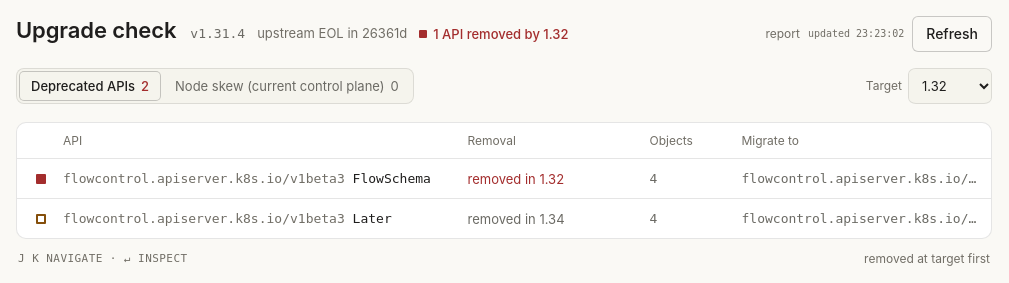
Test: UpgradeView (redesign step 5) › frames removals against the target and re-frames on change; a removal's mark is a fault, a later one look-at
The width and height of the screenshot is (1009, 283).
Expected: the text "1 API removed by 1.32" is shown, [433, 25, 568, 43]
Select "1.34" in the dropdown named "target minor": (950, 86) [908, 66, 992, 106]
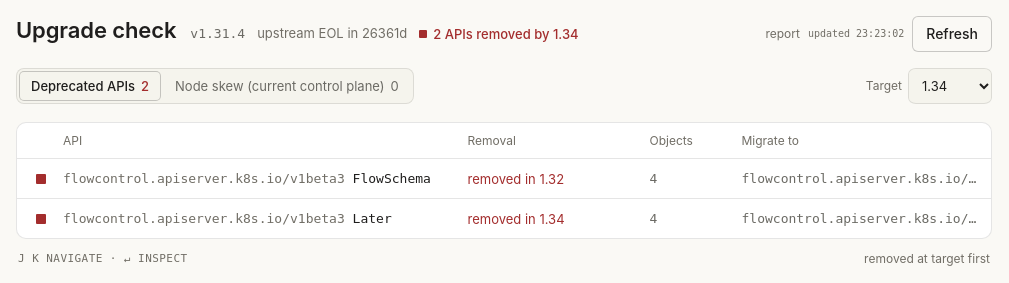
Result: the text "2 APIs removed by 1.34" is shown at [433, 25, 579, 43]
